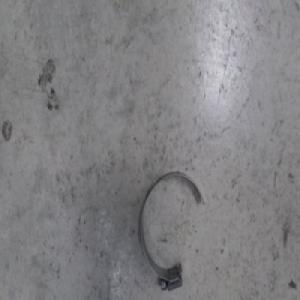AdjustableClamp: (138, 167, 205, 292)
